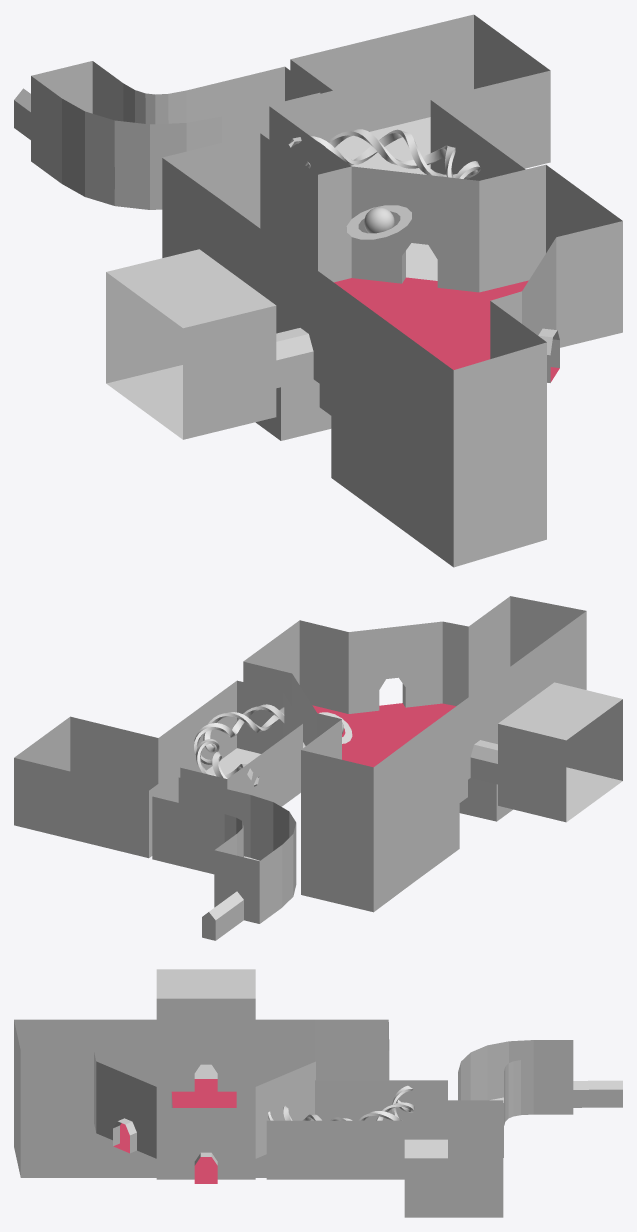
File: webbiesworld.fbx
3 views of the same model, one above another, from view 1: azimuth 30°, elevation 25°; view 2: azimuth 150°, elevation 25°; view 3: azimuth 270°, elevation 25° (orthographic). The views are drawn at different scales.
Parts seen in each view (by area): view 1: Foyer, Science Area, Entrance, Biology Exhibit, DNA Strand, Saturn; view 2: Foyer, Science Area, Biology Exhibit, Entrance, DNA Strand; view 3: Foyer, Science Area, Biology Exhibit, Entrance, DNA Strand.
Part boxes in pixels (box(x1,y1,x2,y2)): Foyer: box(162, 133, 622, 567); Science Area: box(269, 14, 550, 280); Entrance: box(106, 249, 276, 439); Biology Exhibit: box(14, 61, 320, 209); DNA Strand: box(288, 129, 480, 179); Saturn: box(346, 205, 411, 239); Foyer: box(243, 596, 586, 912); Science Area: box(14, 680, 302, 858); Biology Exhibit: box(152, 777, 296, 940); Entrance: box(498, 682, 622, 822); DNA Strand: box(194, 704, 284, 786); Foyer: box(14, 1019, 389, 1183); Science Area: box(266, 1080, 503, 1217); Biology Exhibit: box(458, 1040, 622, 1157); Entrance: box(156, 969, 255, 1078); DNA Strand: box(268, 1085, 414, 1120).
Size of the model in its own units: 4200 by 1414 by 6137.
